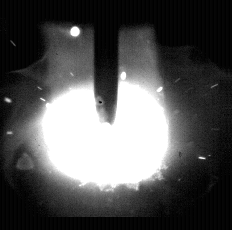arame: (94, 0, 120, 125)
poca: (41, 0, 170, 230)
